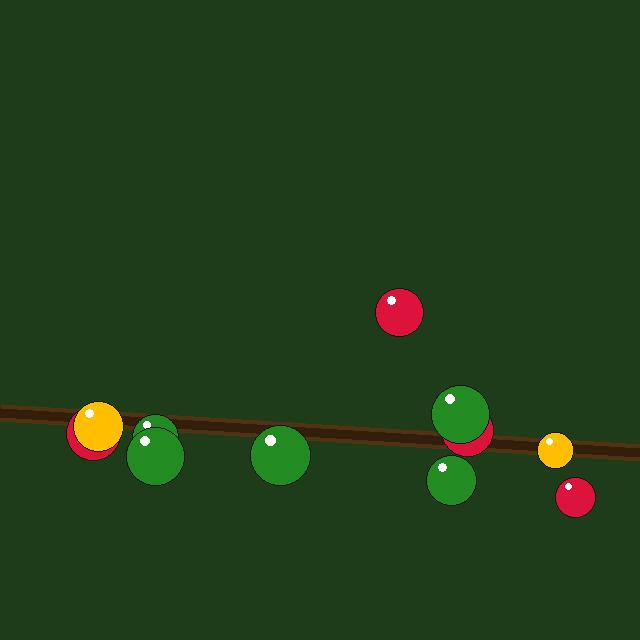Ripe: (66, 406, 120, 460), (441, 404, 493, 456), (375, 288, 423, 336), (555, 477, 595, 517)
Ripening: (73, 401, 123, 451), (537, 432, 573, 468)
Unripe: (250, 425, 310, 485), (431, 385, 489, 443), (126, 427, 184, 485), (426, 455, 476, 505), (132, 414, 178, 460)
